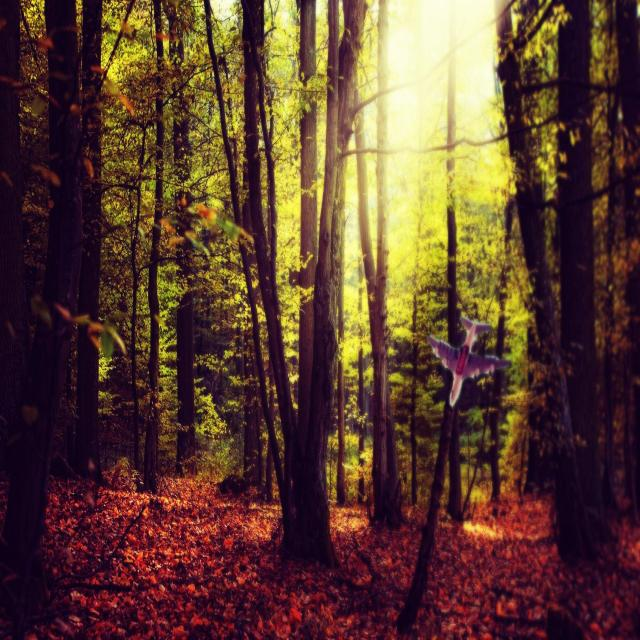airplane: (427, 314, 511, 408)
